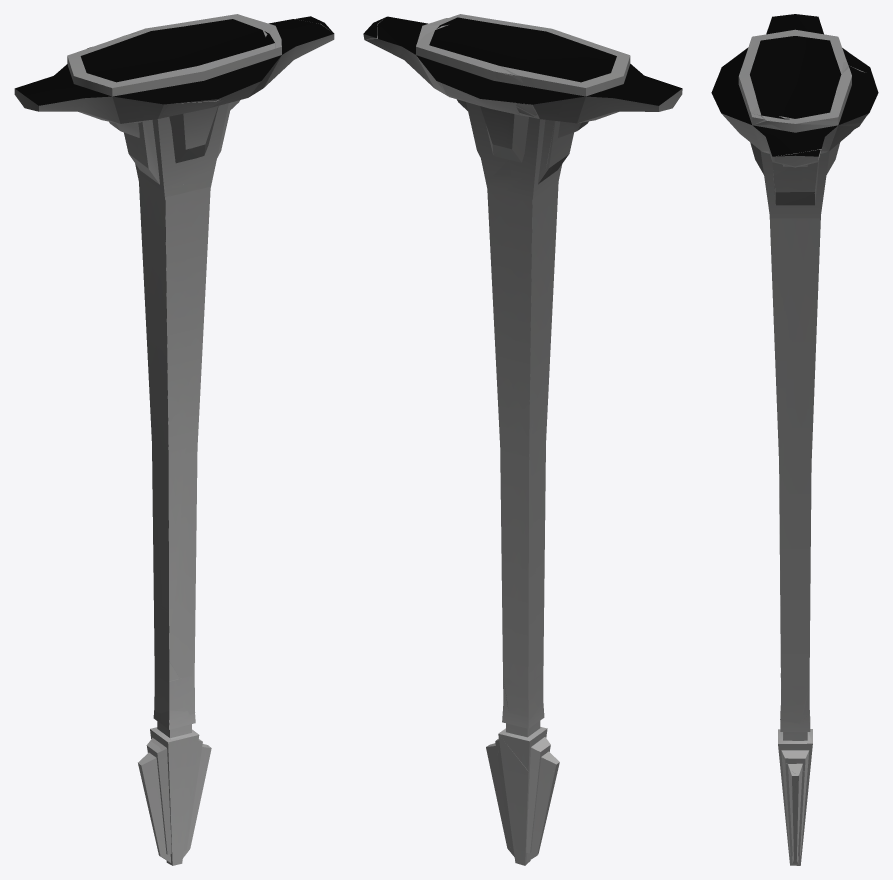
Rendered from Prop_GardenBridgeSet.fbx.
3 renders of one model, left to right at view 1: azimuth 30°, elevation 25°; view 2: azimuth 150°, elevation 25°; view 3: azimuth 270°, elevation 25°, orthographic. The views are drawn at different scales.
Parts seen in each view (by area): view 1: GardenBridgeSetWonkMesh, GardenBridgeSetCleanMesh, GardenBridgeSetCrackBMesh, GardenBridgeSetCrackMesh, GardenBridgeSetCrackAMesh, GardenBridgeSetCrackCMesh; view 2: GardenBridgeSetWonkMesh, GardenBridgeSetCleanMesh, GardenBridgeSetCrackBMesh, GardenBridgeSetCrackMesh, GardenBridgeSetCrackAMesh; view 3: GardenBridgeSetCrackMesh, GardenBridgeSetWonkMesh, GardenBridgeSetCleanMesh, GardenBridgeSetCrackBMesh, GardenBridgeSetCrackAMesh, GardenBridgeSetCrackCMesh.
Boxes of the visible parts, bbox=[...] form: GardenBridgeSetWonkMesh: bbox=[14, 16, 333, 865]; GardenBridgeSetCleanMesh: bbox=[58, 14, 291, 865]; GardenBridgeSetCrackBMesh: bbox=[139, 183, 210, 714]; GardenBridgeSetCrackMesh: bbox=[15, 19, 334, 864]; GardenBridgeSetCrackAMesh: bbox=[15, 15, 334, 156]; GardenBridgeSetCrackCMesh: bbox=[157, 717, 207, 857]; GardenBridgeSetWonkMesh: bbox=[363, 14, 682, 865]; GardenBridgeSetCleanMesh: bbox=[364, 17, 630, 860]; GardenBridgeSetCrackBMesh: bbox=[486, 175, 558, 719]; GardenBridgeSetCrackMesh: bbox=[378, 15, 671, 860]; GardenBridgeSetCrackAMesh: bbox=[366, 15, 681, 175]; GardenBridgeSetCrackMesh: bbox=[723, 14, 878, 864]; GardenBridgeSetWonkMesh: bbox=[711, 14, 878, 863]; GardenBridgeSetCleanMesh: bbox=[720, 29, 868, 742]; GardenBridgeSetCrackBMesh: bbox=[769, 216, 820, 723]; GardenBridgeSetCrackAMesh: bbox=[721, 14, 871, 191]; GardenBridgeSetCrackCMesh: bbox=[778, 719, 808, 865].
Size of the model in its own units: 60.55 by 157 by 30.16.
